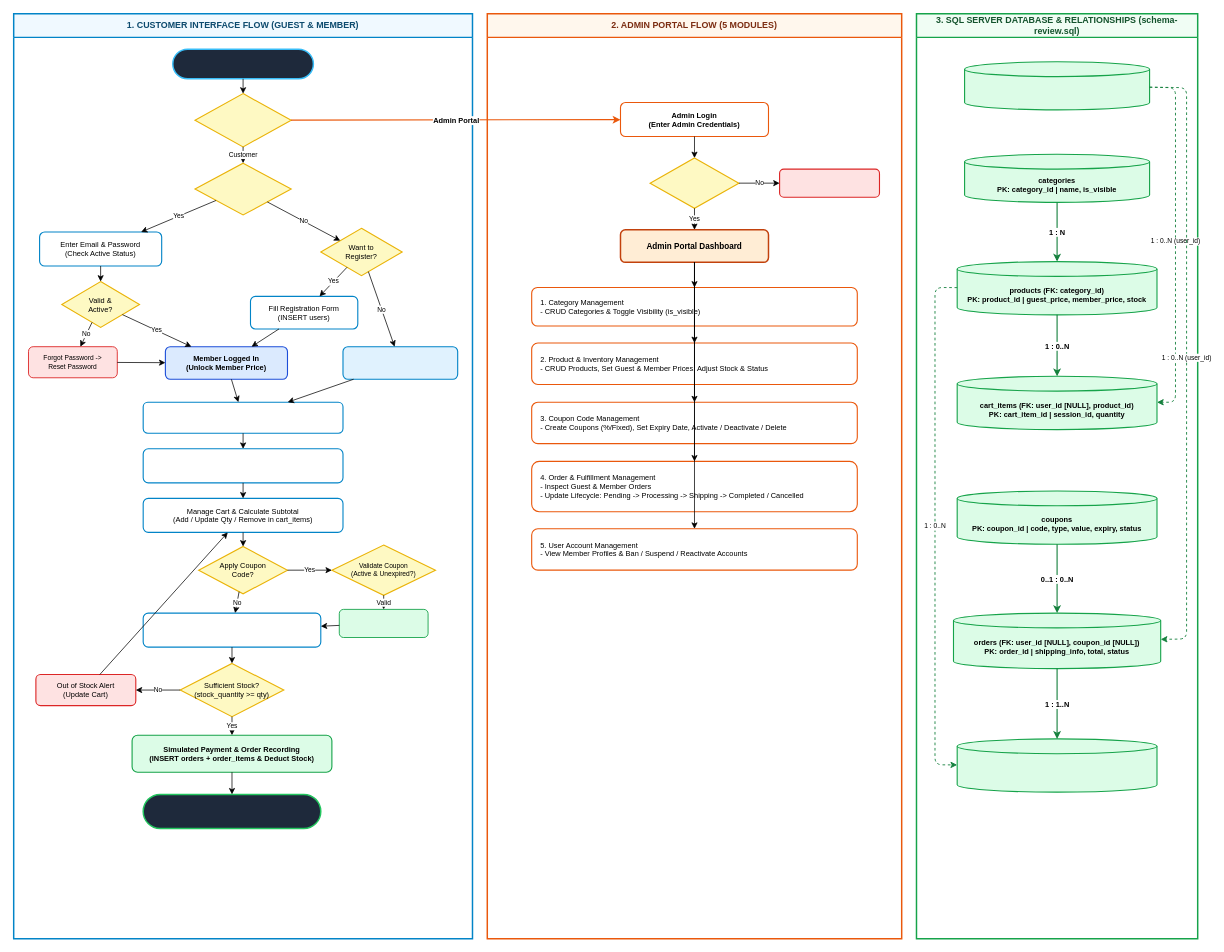
Some shapes in this 1224 by 952 pixel diagram are drawn without their labels. Each missing label, with the centre of its shape:
"Access Denied Alert" belongs at [829,182].
"Already a Member?" belongs at [242,188].
"Apply Discount (% or Fixed)" belongs at [383,623].
"Browse Visible Categories & Search Products" belongs at [242,417].
"Checkout: Fill Shipping Information (Full Name, Phone, Shipping Address)" belongs at [231,629].
"Continue as Guest (Session / user_id = NULL)" belongs at [400,362].
"End: Order Confirmation Page (Default Status: Pending)" belongs at [231,811].
"order_items (FK: order_id, product_id) PK: order_item_id | quantity, unit_price" belongs at [1056,765].
"Select Role / Entry Point?" belongs at [242,120].
"Start: User Visits Website" belongs at [243,63].
"users PK: user_id | role, status" belongs at [1057,85].
"Valid Admin Account?" belongs at [694,183].
"View Product Details & Tiered Pricing (Guest Price vs. Member Price)" belongs at [242,465].
